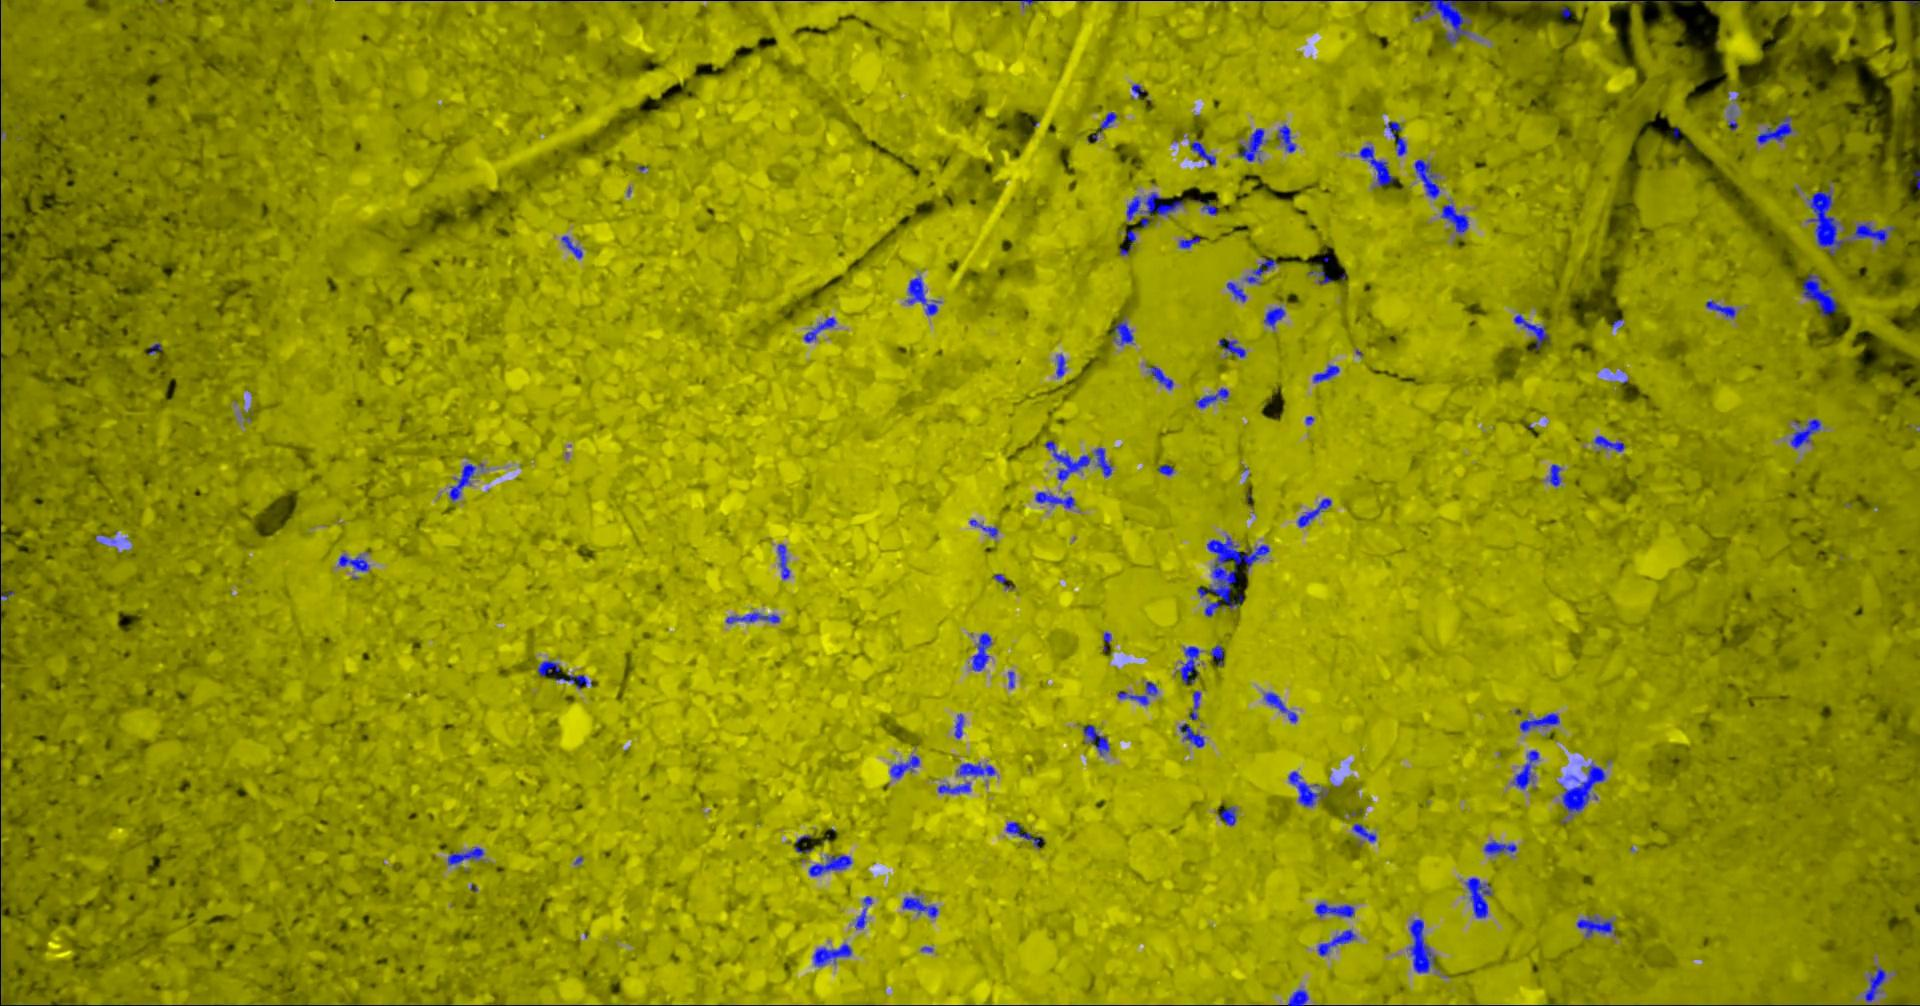ant: (1412, 0, 1500, 43), (1810, 188, 1845, 255), (1563, 763, 1608, 812), (1128, 192, 1185, 227), (1046, 439, 1092, 480), (1804, 273, 1839, 316), (1361, 146, 1397, 185), (1290, 771, 1330, 807), (1411, 920, 1436, 972), (1515, 314, 1550, 349), (908, 276, 941, 314), (1298, 497, 1333, 527), (1467, 876, 1492, 918), (1007, 821, 1046, 847), (1853, 222, 1896, 246), (450, 464, 477, 500), (1514, 749, 1540, 788), (1319, 929, 1357, 955), (1265, 692, 1299, 721), (1416, 159, 1441, 198), (1757, 116, 1793, 144), (810, 854, 853, 876), (1239, 128, 1269, 161), (814, 942, 853, 967), (1792, 418, 1822, 448), (1119, 681, 1159, 704), (1443, 202, 1470, 232), (1247, 257, 1277, 283), (1385, 121, 1408, 155), (1865, 967, 1888, 1001), (1084, 724, 1110, 754), (1578, 916, 1617, 936), (805, 318, 837, 342), (973, 633, 993, 669), (1181, 647, 1201, 683), (904, 895, 938, 917), (1093, 111, 1117, 140), (891, 754, 921, 779), (1521, 713, 1561, 730), (1036, 492, 1077, 508), (1180, 723, 1206, 747), (450, 847, 485, 865), (1197, 387, 1230, 406), (1316, 902, 1356, 917), (728, 611, 781, 622), (1192, 141, 1217, 165), (1150, 365, 1175, 389), (1114, 320, 1135, 345), (856, 895, 872, 929), (1707, 300, 1737, 318), (1277, 124, 1297, 152), (556, 674, 594, 688), (1220, 338, 1247, 357), (1596, 434, 1627, 451), (957, 763, 997, 776), (563, 235, 584, 258), (1096, 447, 1112, 476), (340, 554, 370, 570), (1314, 365, 1341, 382), (1265, 306, 1286, 328), (971, 520, 999, 536), (1484, 840, 1517, 854), (1309, 265, 1333, 285), (778, 544, 791, 579), (1228, 281, 1248, 301), (1121, 229, 1137, 255), (1354, 823, 1377, 841), (1194, 199, 1219, 215), (1190, 690, 1203, 719), (796, 835, 815, 854), (538, 661, 561, 676), (938, 782, 971, 793), (1289, 989, 1310, 1005), (1220, 807, 1237, 826), (1180, 235, 1203, 248), (1211, 645, 1225, 666), (996, 573, 1013, 588), (1550, 464, 1562, 486), (1057, 354, 1067, 377), (956, 713, 965, 738), (1161, 464, 1175, 475)
